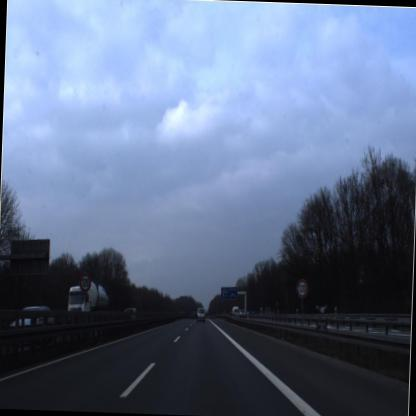prohibitory: (78, 270, 96, 298), (295, 275, 311, 304)
